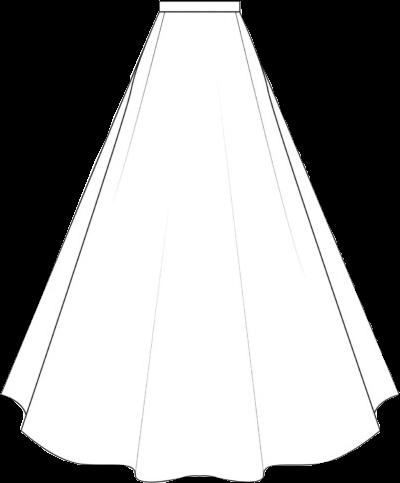Hemline: (0, 391, 399, 482)
Waistline: (156, 8, 240, 16), (156, 0, 244, 5)
